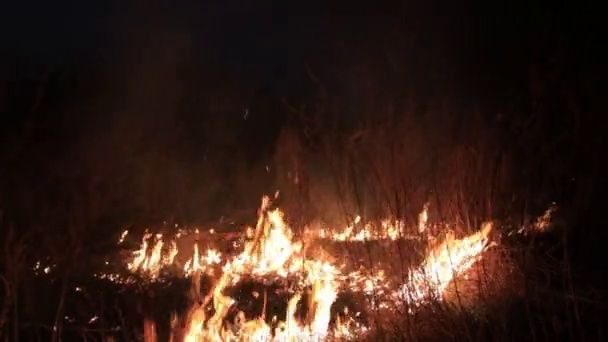fire: (190, 277, 339, 342), (398, 222, 501, 301), (224, 209, 338, 277), (133, 233, 176, 267), (339, 218, 405, 237), (204, 248, 222, 265), (419, 207, 427, 232), (192, 243, 199, 270)
